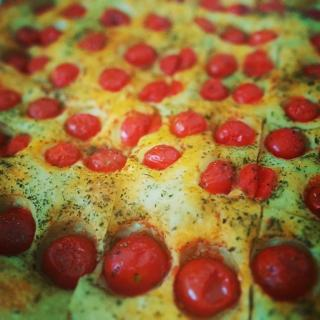tomato: (172, 254, 237, 318), (102, 234, 168, 296), (256, 245, 319, 300), (43, 234, 97, 292), (0, 205, 36, 253), (115, 110, 158, 146), (265, 124, 307, 158), (240, 167, 280, 200), (203, 158, 237, 196), (158, 46, 196, 76), (135, 79, 186, 101), (86, 146, 126, 173), (282, 96, 320, 123), (65, 113, 99, 143), (168, 111, 208, 136), (217, 118, 254, 145), (204, 52, 239, 80), (42, 142, 78, 169), (242, 47, 275, 76), (10, 56, 50, 78), (98, 66, 130, 93), (143, 146, 179, 170), (48, 63, 80, 89), (0, 130, 29, 157), (125, 46, 157, 68), (232, 82, 263, 104), (59, 1, 90, 22), (303, 177, 319, 217), (31, 98, 61, 118), (76, 30, 106, 50), (204, 76, 227, 102), (98, 8, 129, 27), (0, 87, 23, 112), (142, 14, 171, 33), (220, 24, 245, 46), (12, 25, 34, 47), (257, 0, 285, 16), (37, 26, 59, 46), (31, 4, 56, 19), (194, 18, 217, 34), (226, 3, 248, 19), (247, 31, 274, 44), (202, 0, 224, 14), (306, 33, 320, 53), (303, 60, 319, 76)
